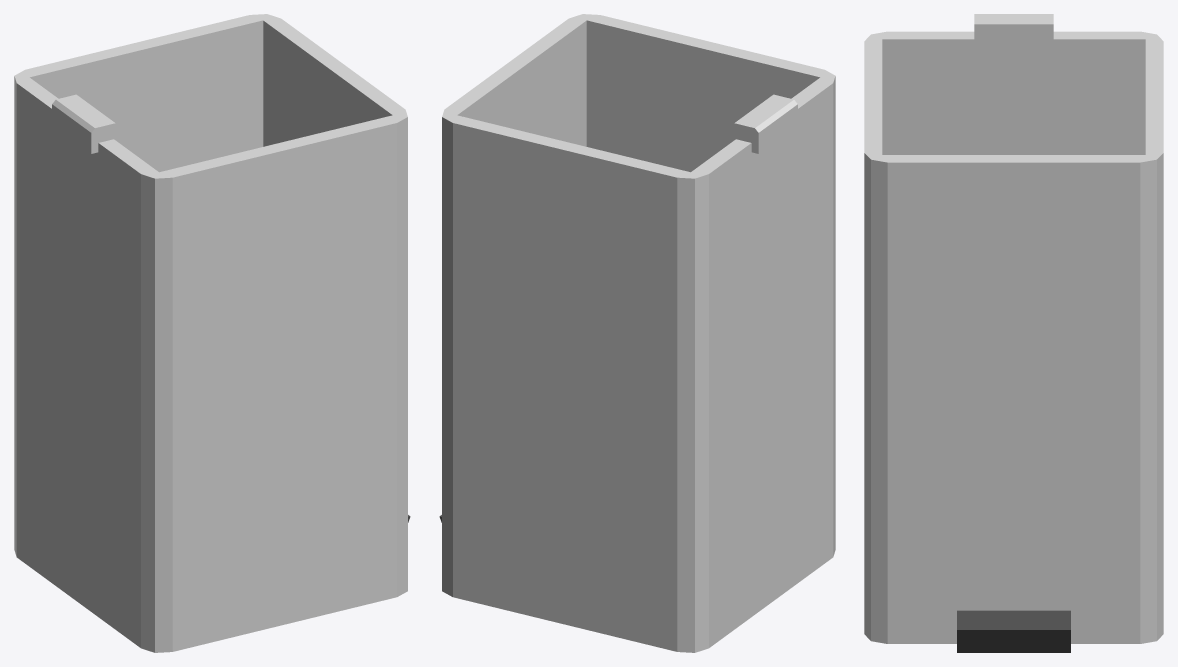
Rendered from trash_can.gltf.
The picture shows the model from 3 angles, left to right: view 1: azimuth 30°, elevation 25°; view 2: azimuth 150°, elevation 25°; view 3: azimuth 270°, elevation 25°; orthographic projection.
Parts seen in each view (by area): view 1: TrashBin.001; view 2: TrashBin.001; view 3: TrashBin.001.
Part boxes in pixels (<box>): TrashBin.001: <box>14,14,410,652</box>; TrashBin.001: <box>439,14,835,652</box>; TrashBin.001: <box>864,14,1163,652</box>.
Size of the model in its own units: 0.4849 by 0.7304 by 0.3986.
1 material, 1 textured.
